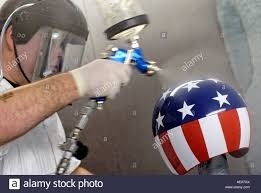person without safety: (1, 1, 140, 176)
